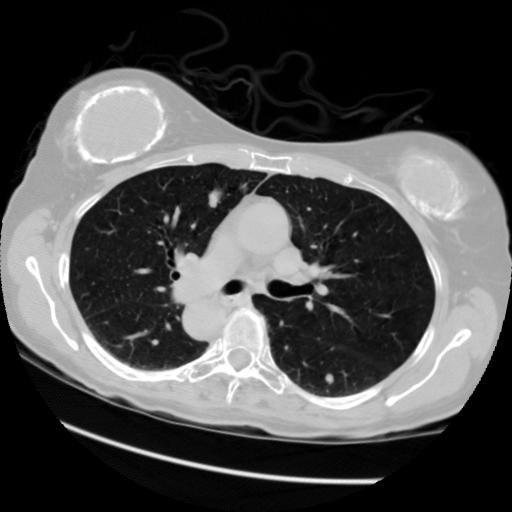nodule: (323, 369, 342, 388)
